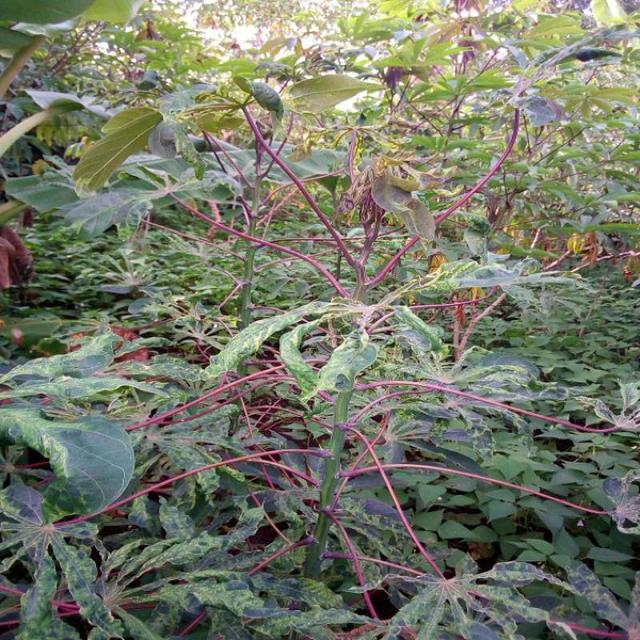cassava leaf: (0, 402, 134, 523), (72, 104, 162, 198), (278, 70, 380, 116)
